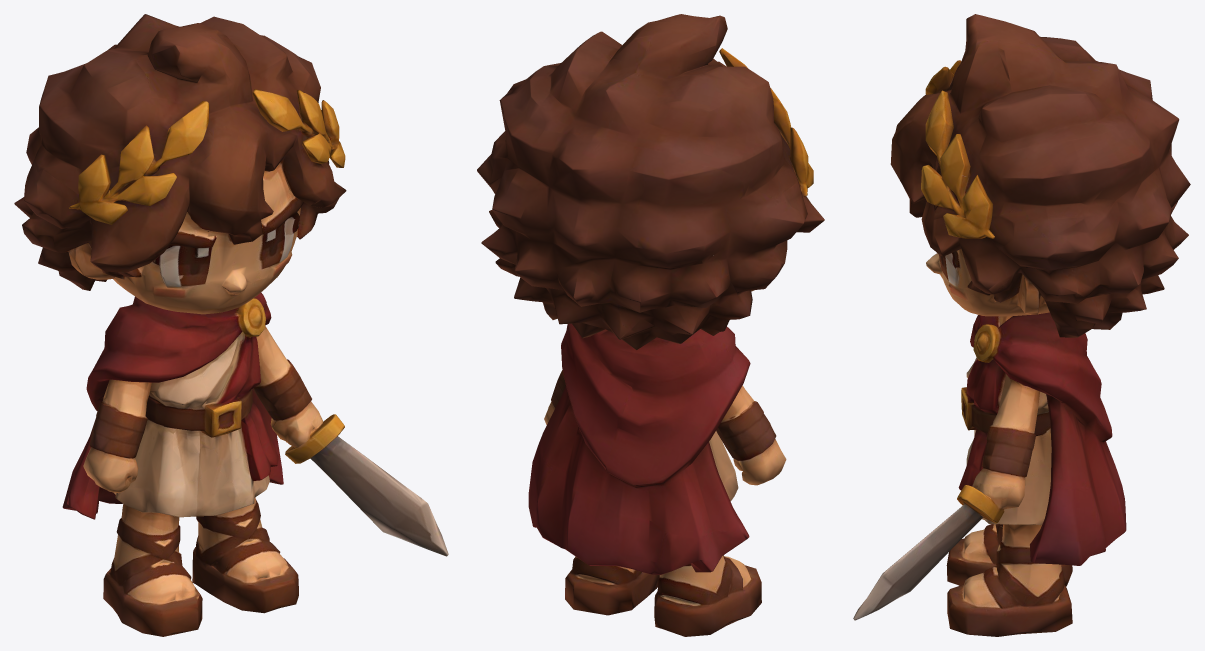
The model's file is teseu_novo.glb.
3 renders of one model, left to right at view 1: azimuth 30°, elevation 25°; view 2: azimuth 150°, elevation 25°; view 3: azimuth 270°, elevation 25°, orthographic. The views are drawn at different scales.
Visible parts, largest first — view 1: Teseu; view 2: Teseu; view 3: Teseu.
Part boxes in pixels (x1=…): Teseu: x1=14, y1=14, x2=448, y2=636; Teseu: x1=477, y1=14, x2=824, y2=636; Teseu: x1=853, y1=14, x2=1190, y2=636.
Bounding box in the file's own units: 0.5957 × 1 × 0.5421.
1 material, 1 textured.
